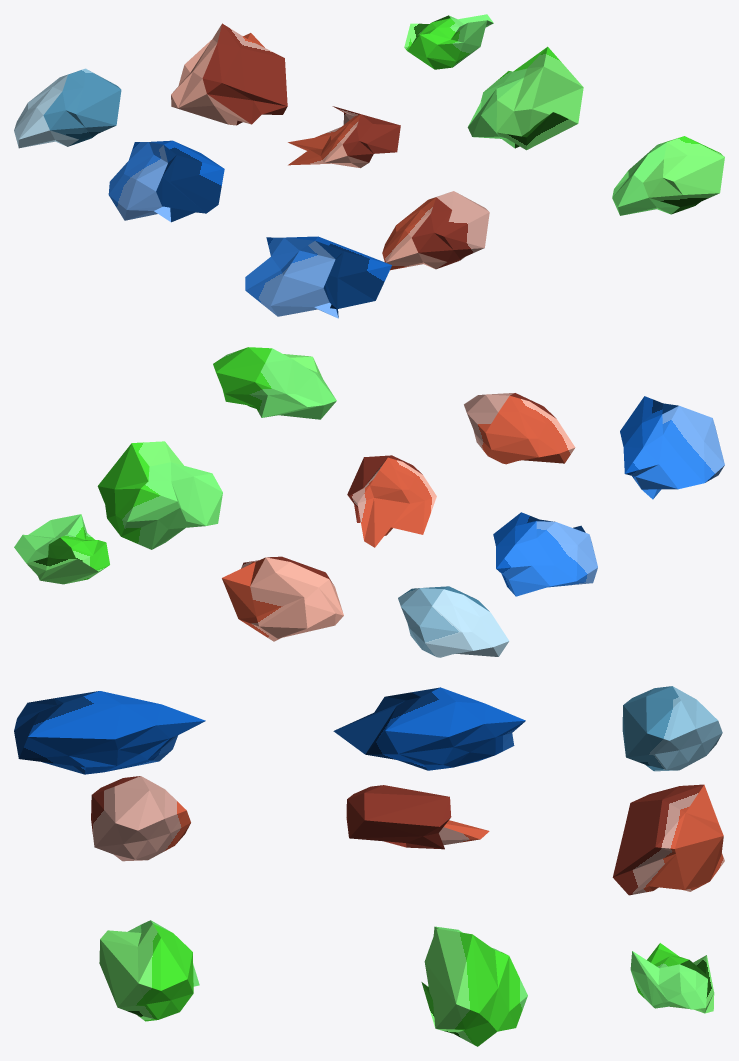
File: redGreenBlueGibs.glb
3 renders of one model, top to bottom at view 1: azimuth 30°, elevation 25°; view 2: azimuth 150°, elevation 25°; view 3: azimuth 270°, elevation 25°, orthographic. The views are drawn at different scales.
Parts seen in each view (by area): view 1: Icosphere.006, Icosphere.004, Icosphere.002, Icosphere.001, Icosphere.008, Icosphere.005, Icosphere.007, Icosphere, Icosphere.003; view 2: Icosphere.002, Icosphere.006, Icosphere.004, Icosphere.008, Icosphere.001, Icosphere.005, Icosphere.007, Icosphere, Icosphere.003; view 3: Icosphere.006, Icosphere.001, Icosphere.004, Icosphere.002, Icosphere.008, Icosphere.005, Icosphere.007, Icosphere, Icosphere.003.
Boxes of the visible parts, x1,y1,x2,y2 form: Icosphere.006: (245, 236, 391, 318); Icosphere.004: (171, 23, 287, 125); Icosphere.002: (467, 46, 583, 150); Icosphere.001: (108, 140, 224, 222); Icosphere.008: (612, 136, 724, 215); Icosphere.005: (14, 68, 121, 148); Icosphere.007: (382, 191, 489, 270); Icosphere: (288, 106, 400, 168); Icosphere.003: (404, 14, 493, 69); Icosphere.002: (97, 441, 222, 549); Icosphere.006: (620, 396, 724, 499); Icosphere.004: (222, 556, 343, 641); Icosphere.008: (213, 347, 336, 419); Icosphere.001: (493, 512, 597, 596); Icosphere.005: (398, 586, 509, 657); Icosphere.007: (464, 393, 575, 464); Icosphere: (347, 455, 436, 547); Icosphere.003: (14, 514, 109, 584); Icosphere.006: (14, 691, 205, 774); Icosphere.001: (333, 687, 525, 770); Icosphere.004: (612, 784, 724, 895); Icosphere.002: (421, 926, 527, 1046); Icosphere.008: (99, 920, 199, 1021); Icosphere.005: (622, 686, 722, 771); Icosphere.007: (91, 776, 190, 861); Icosphere: (346, 785, 489, 849); Icosphere.003: (630, 943, 714, 1013).
Bounding box in the file's own units: 6.65 × 1.35 × 6.69.
Materials: 1 (1 with a texture image).
